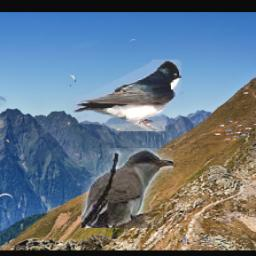Cuckoo: (82, 148, 173, 228)
Swallow: (73, 61, 183, 132)
